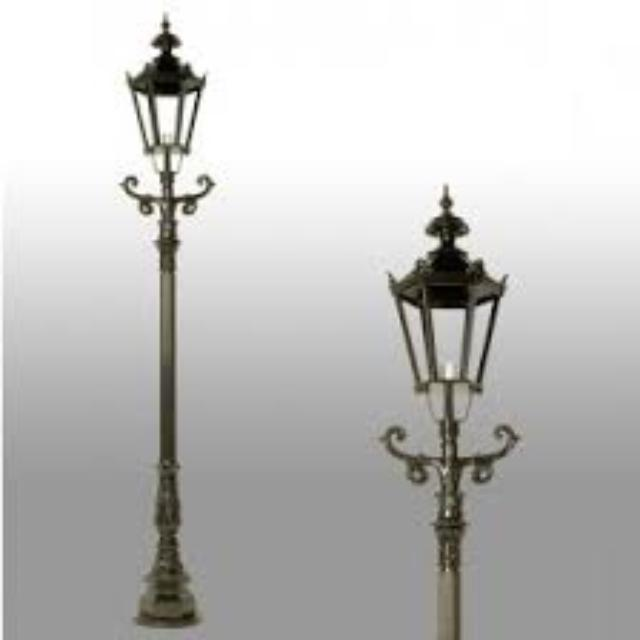Street-Lamp: (112, 1, 218, 626)
